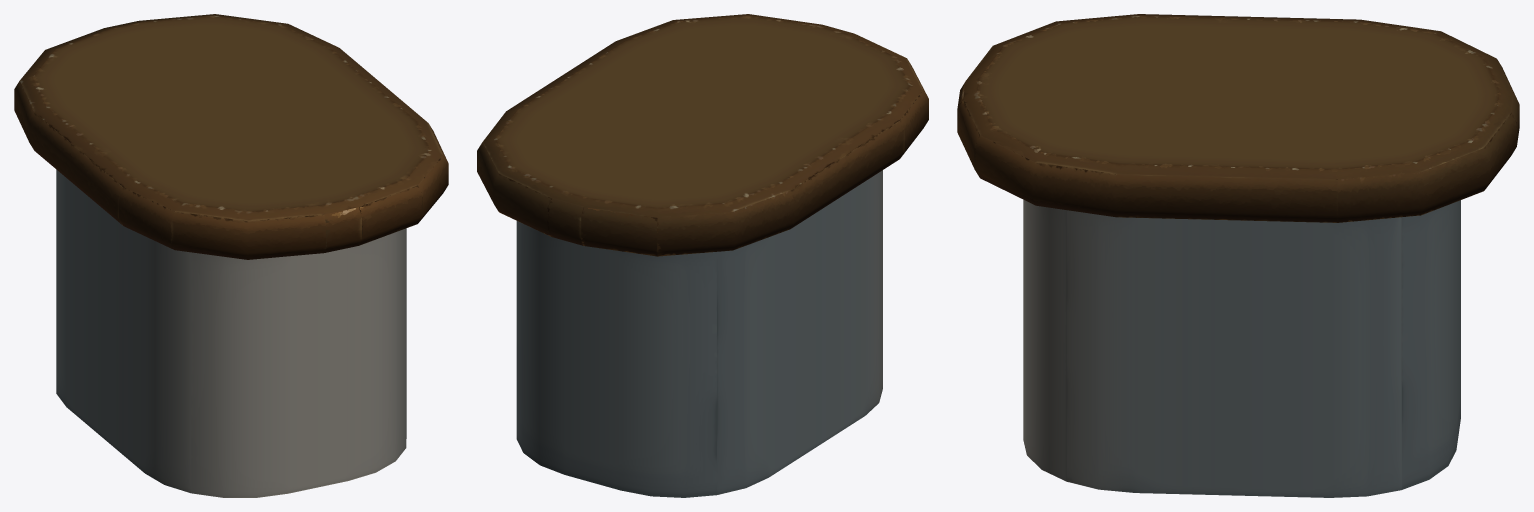
Rendered from Chair.fbx.
3 views of the same model, side by side, from view 1: azimuth 30°, elevation 25°; view 2: azimuth 150°, elevation 25°; view 3: azimuth 270°, elevation 25° (orthographic). The views are drawn at different scales.
Parts seen in each view (by area): view 1: Cube__32_, Cube__33_; view 2: Cube__32_, Cube__33_; view 3: Cube__32_, Cube__33_.
Part boxes in pixels (x1,y1,x2,y2): Cube__32_: [56, 169, 406, 497]; Cube__33_: [14, 14, 448, 259]; Cube__32_: [516, 170, 882, 497]; Cube__33_: [477, 14, 928, 256]; Cube__32_: [1023, 199, 1460, 497]; Cube__33_: [957, 14, 1519, 222].
Size of the model in its own units: 84.43 by 77.35 by 117.
Materials: 2 (2 with a texture image).
